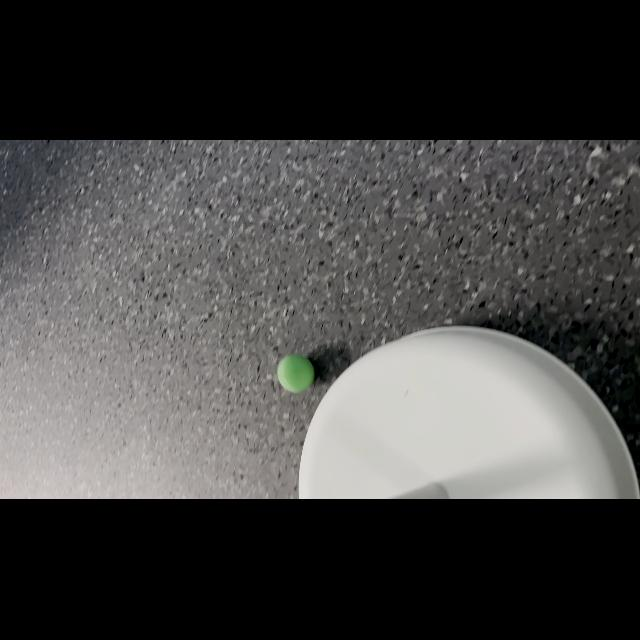objects: (271, 349, 319, 396)
